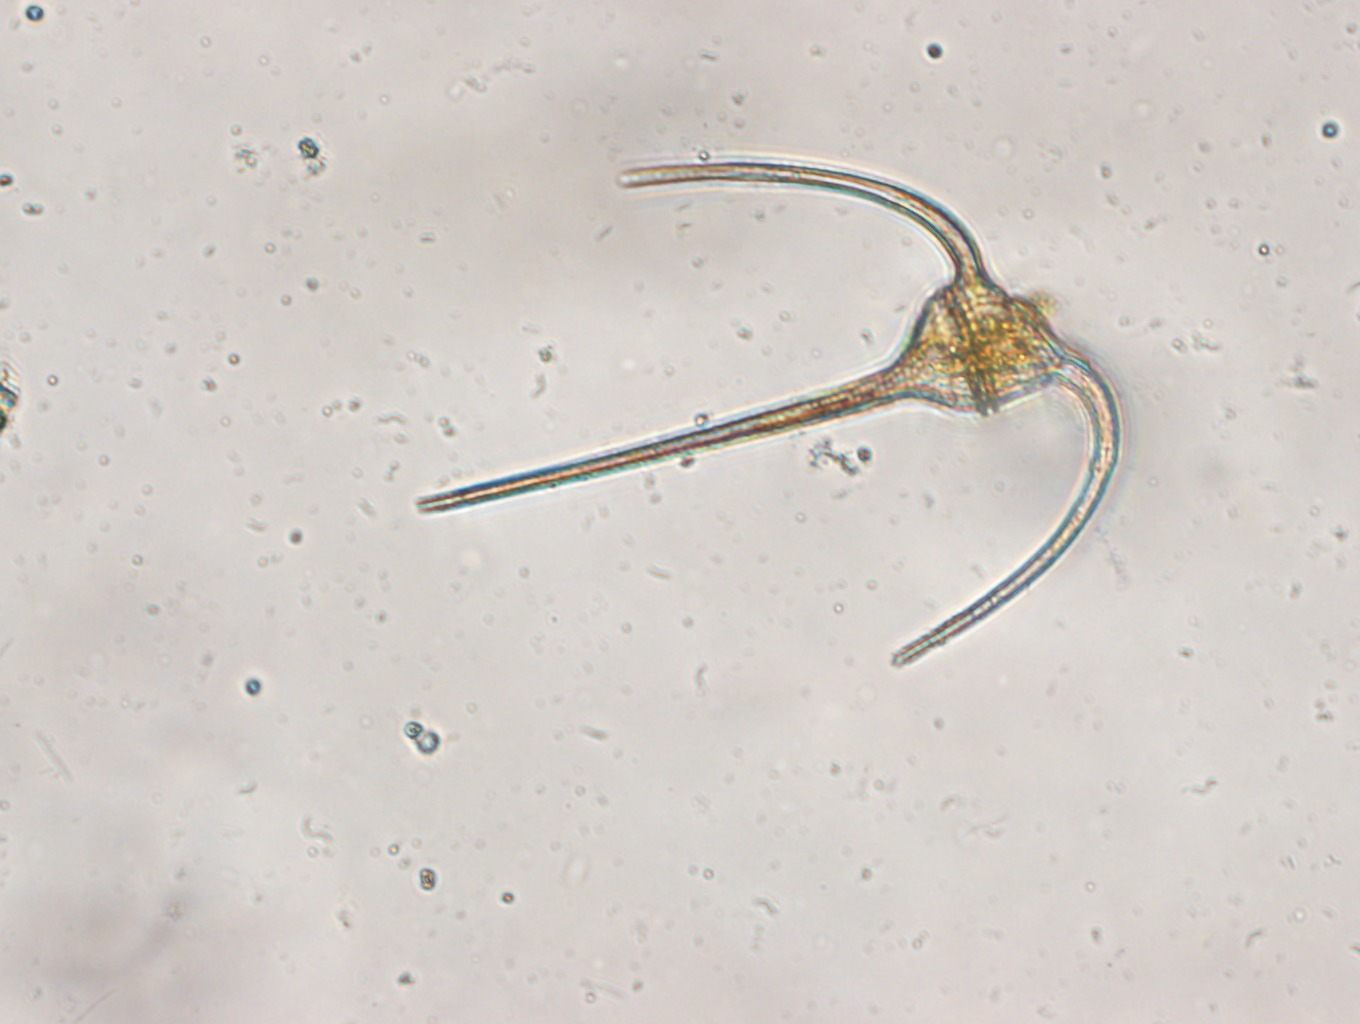ceratium trichoceros: (409, 152, 1130, 674)
